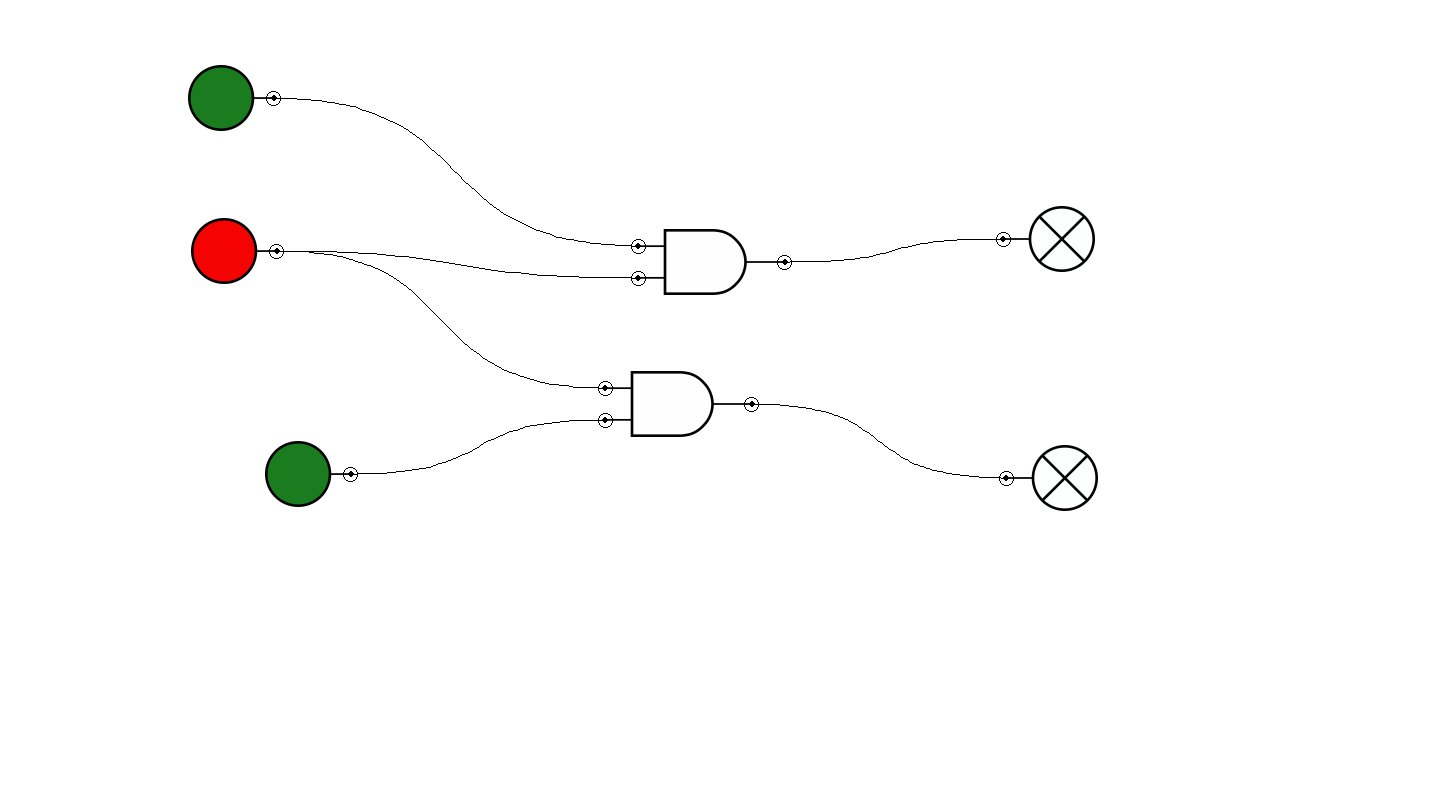and: (598, 371, 759, 437), (631, 229, 792, 295)
bulb: (999, 445, 1098, 511), (996, 206, 1095, 272)
switch_False: (191, 218, 284, 284)
switch_True: (188, 65, 281, 131), (265, 441, 358, 507)
